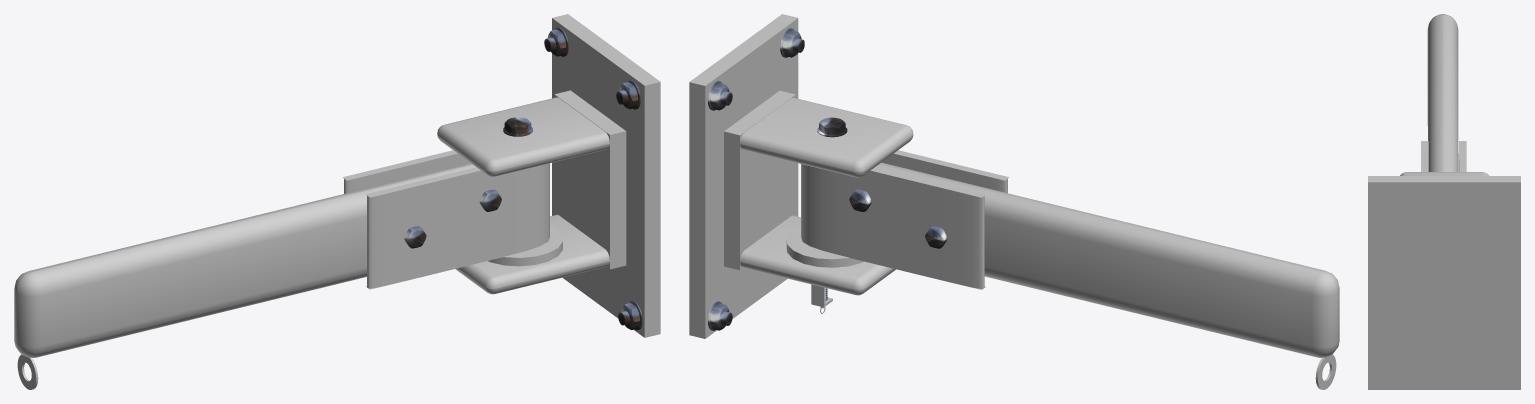
File: Support O.fbx
3 views of the same model, side by side, from view 1: azimuth 30°, elevation 25°; view 2: azimuth 150°, elevation 25°; view 3: azimuth 270°, elevation 25° (orthographic). The views are drawn at different scales.
Visible parts, largest first — view 1: ChamferBox002, ChamferBox001; view 2: ChamferBox002, ChamferBox001; view 3: ChamferBox001, ChamferBox002.
Boxes of the visible parts, x1=… form: ChamferBox002: x1=14, y1=150, x2=562, y2=357; ChamferBox001: x1=437, y1=14, x2=660, y2=337; ChamferBox002: x1=786, y1=150, x2=1339, y2=357; ChamferBox001: x1=689, y1=14, x2=913, y2=338; ChamferBox001: x1=1368, y1=172, x2=1520, y2=389; ChamferBox002: x1=1421, y1=14, x2=1466, y2=171.
Size of the model in its own units: 37.27 by 15 by 10.
